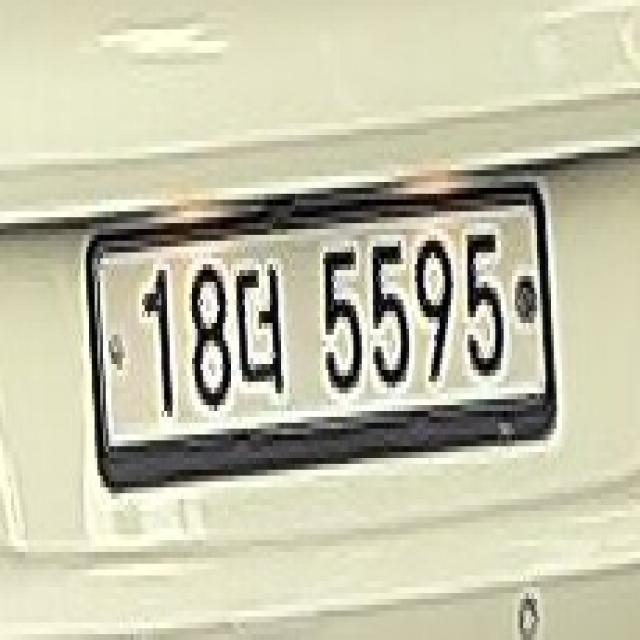1: (133, 264, 181, 435)
5: (314, 235, 364, 411), (364, 229, 412, 405), (462, 218, 506, 394)
8: (184, 252, 234, 428)
9: (415, 229, 459, 388)
deo: (234, 241, 289, 417)
license_plate: (83, 164, 568, 517)
